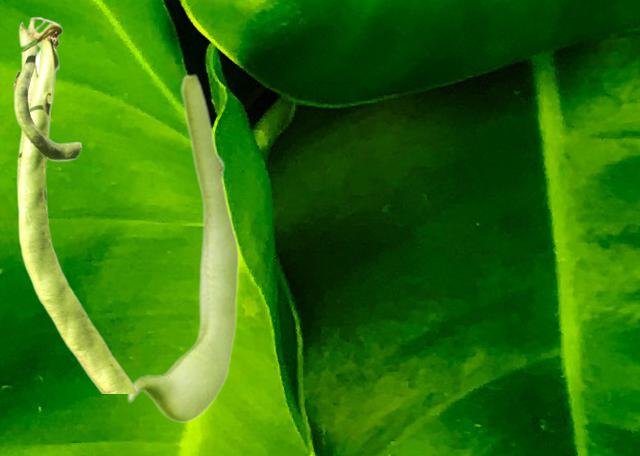french_bean: (12, 16, 136, 392), (126, 72, 238, 421)
